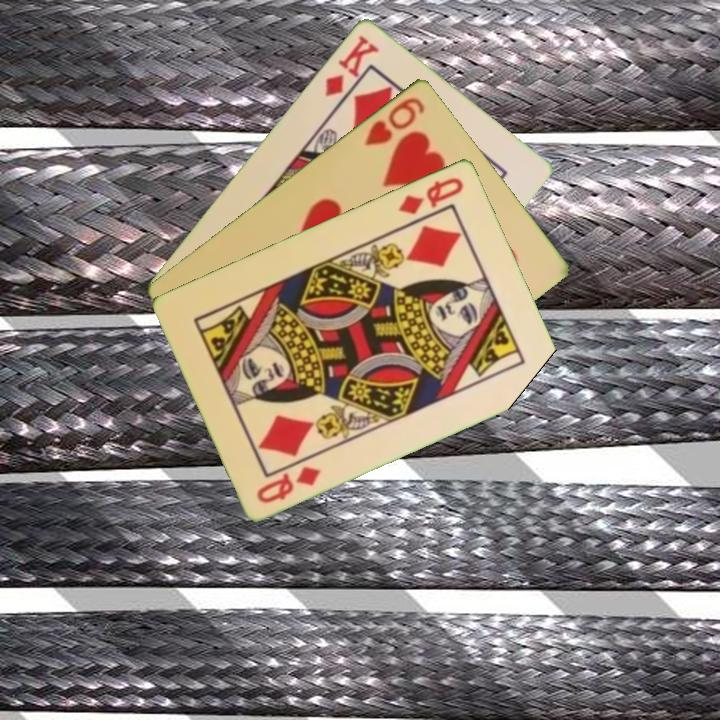6h: (361, 93, 428, 148)
Kd: (321, 31, 382, 99)
Qd: (253, 461, 324, 506), (395, 173, 467, 217)
